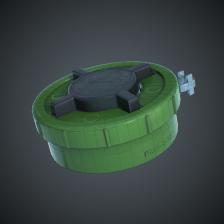PMN2: (16, 53, 218, 180)
